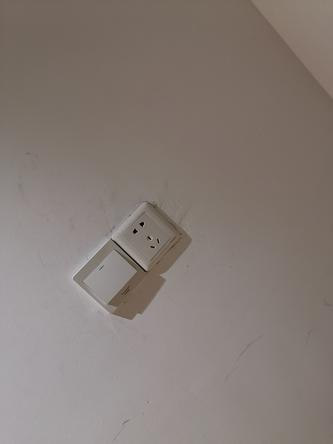switch: (79, 248, 143, 307)
